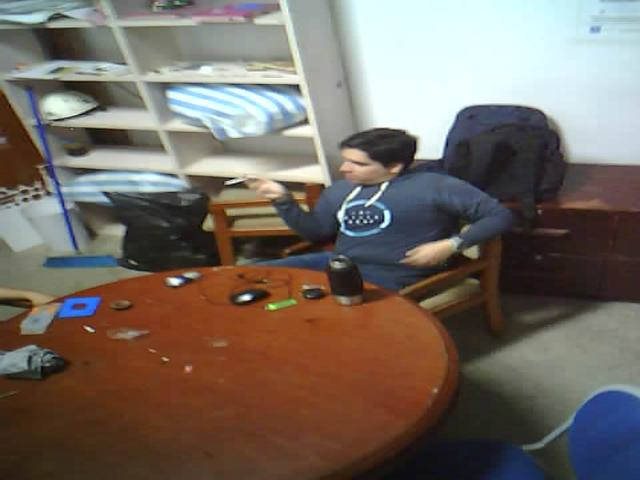person: (210, 77, 524, 327)
